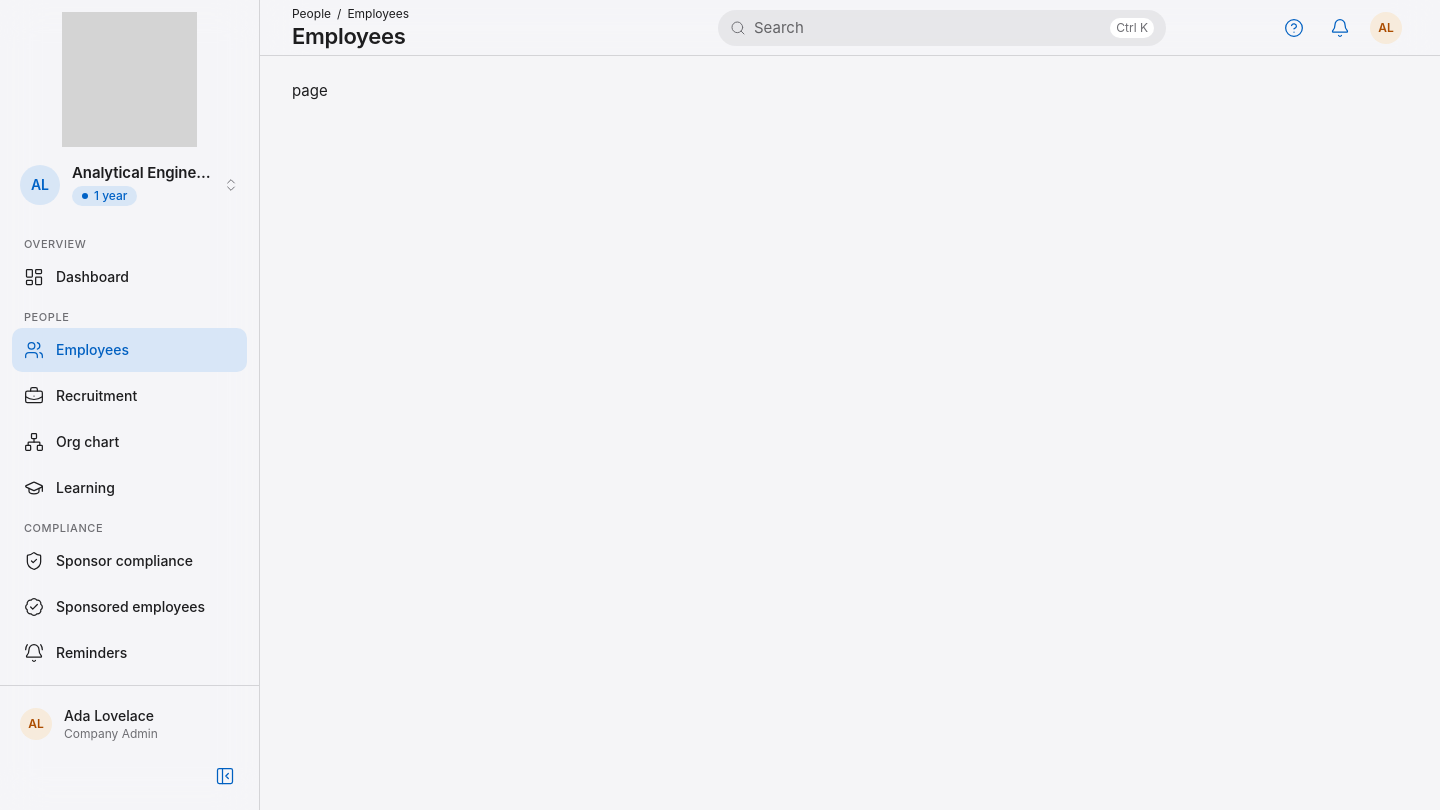
it: the toolbar's controls › the bell opens a calm empty state when there is nothing new
Click the button named "Notifications" at (1340, 28), box [1318,6,1362,50]
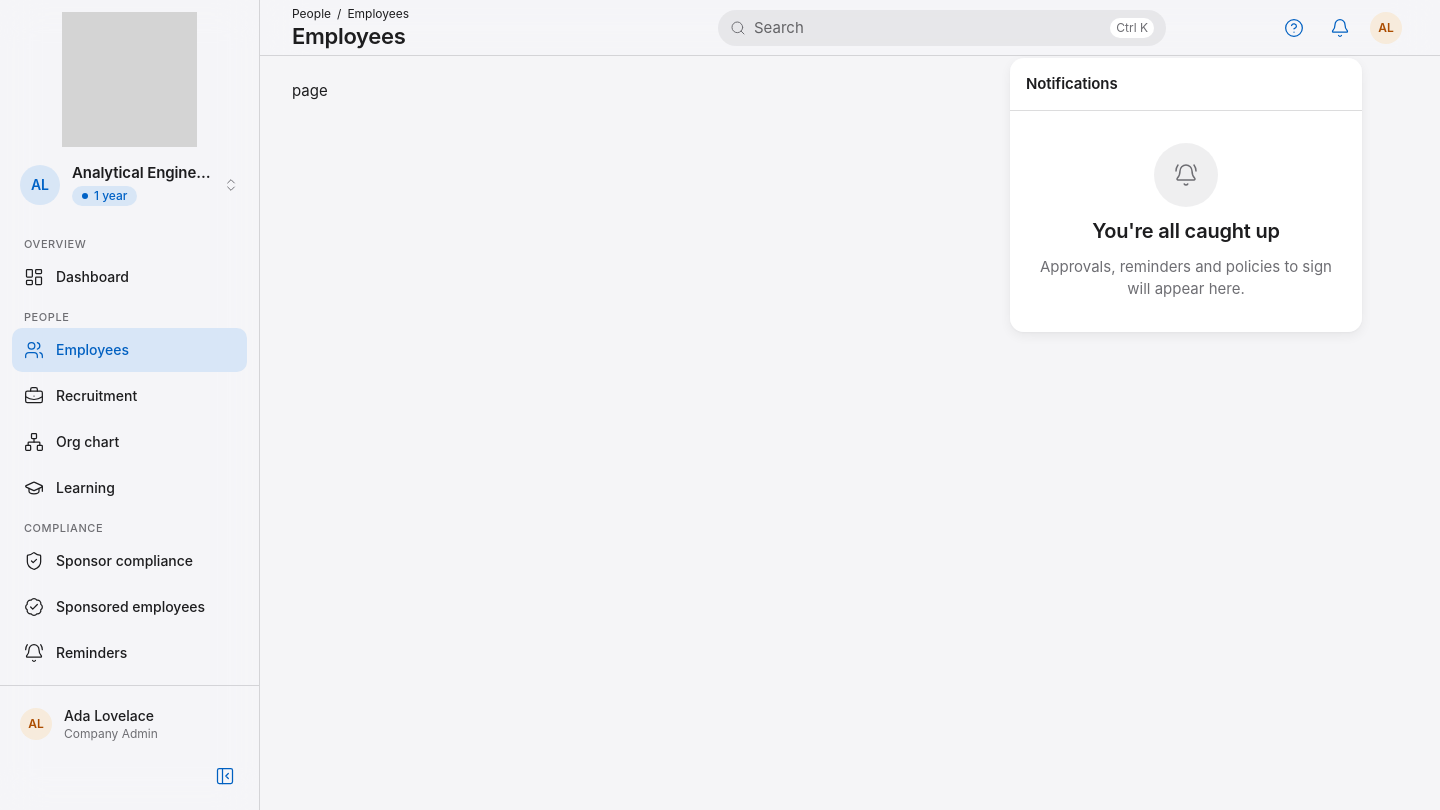
Check: the heading "You're all caught up" is shown, box [1092,219,1280,244]
